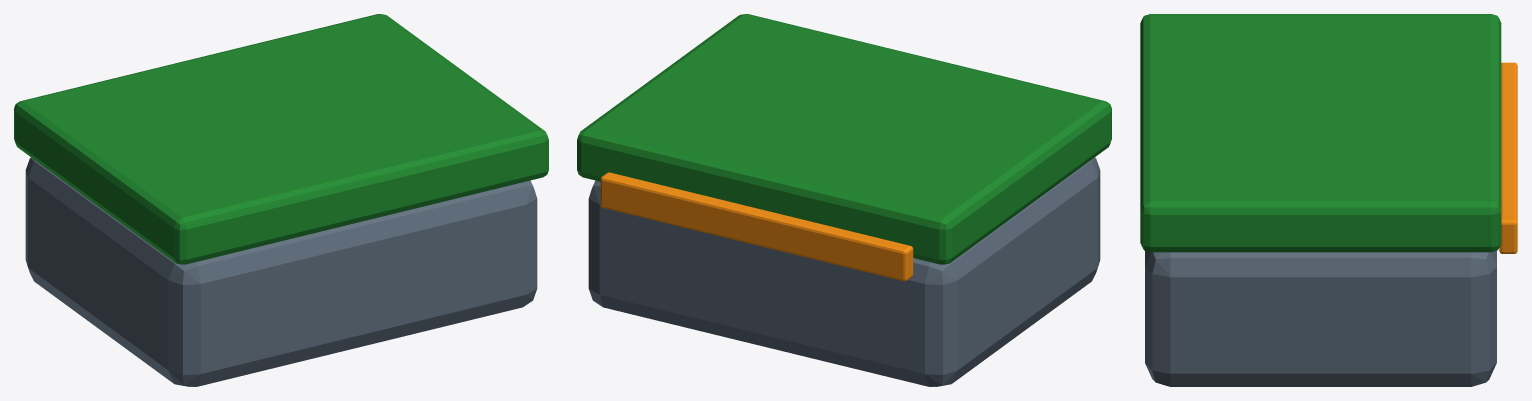
Rendered from platform_straight.obj.
3 views of the same model, side by side, from view 1: azimuth 30°, elevation 25°; view 2: azimuth 150°, elevation 25°; view 3: azimuth 270°, elevation 25° (orthographic). The views are drawn at different scales.
Visible parts, largest first — view 1: platform_grass_M_grass, platform_rock_M_stone; view 2: platform_grass_M_grass, platform_rock_M_stone, platform_trim_M_gold; view 3: platform_grass_M_grass, platform_rock_M_stone, platform_trim_M_gold.
Part boxes in pixels (x1,y1,x2,y2): platform_grass_M_grass: (14,14,548,264); platform_rock_M_stone: (25,157,537,386); platform_grass_M_grass: (577,14,1111,264); platform_rock_M_stone: (588,157,1100,386); platform_trim_M_gold: (600,172,913,281); platform_grass_M_grass: (1140,14,1501,252); platform_rock_M_stone: (1145,250,1496,386); platform_trim_M_gold: (1499,62,1517,253).
Bounding box in the file's own units: 1 × 0.46 × 0.815.
